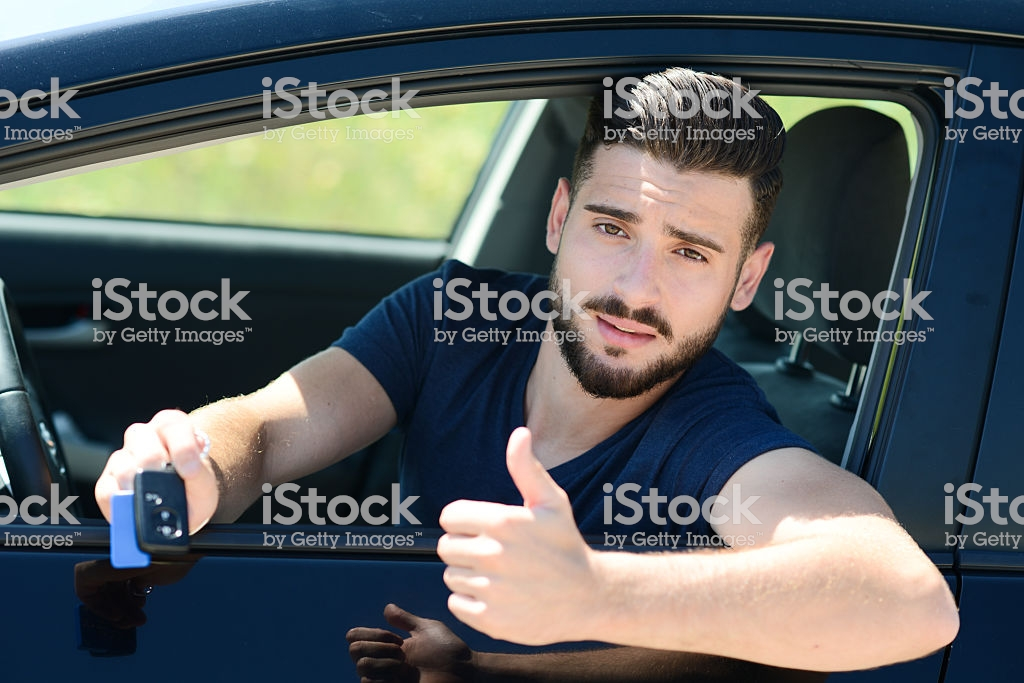thumbsup: (435, 424, 586, 650)
